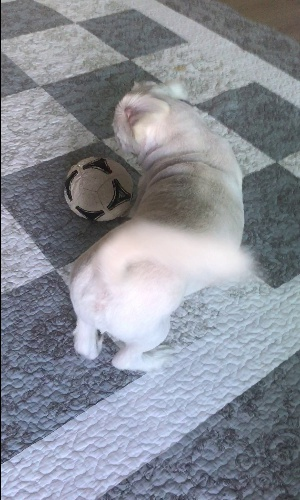ddubi: (62, 75, 263, 375)
